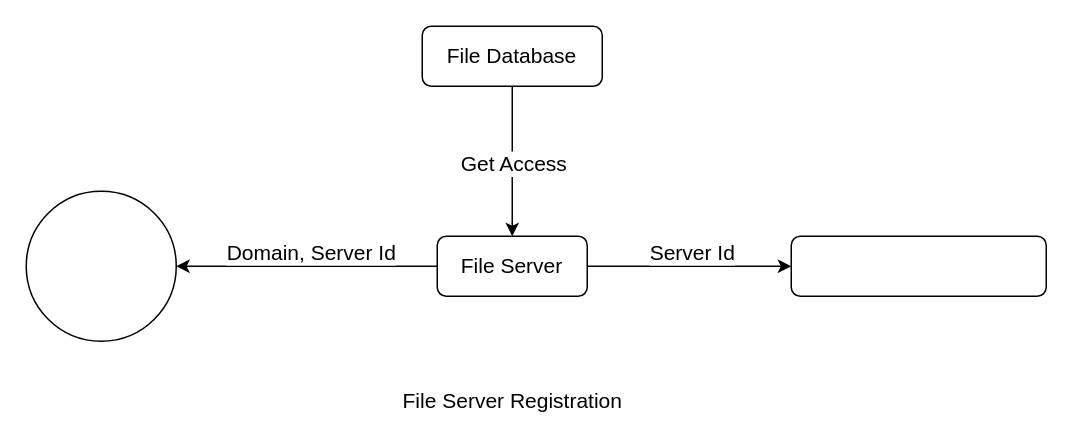
Image size: 1073x443. Some labels were removed from this diagram. Each missing label, with the centre of its shape:
Key Distribution Server: (x=918, y=265)
Server Discovery: (x=100, y=265)
